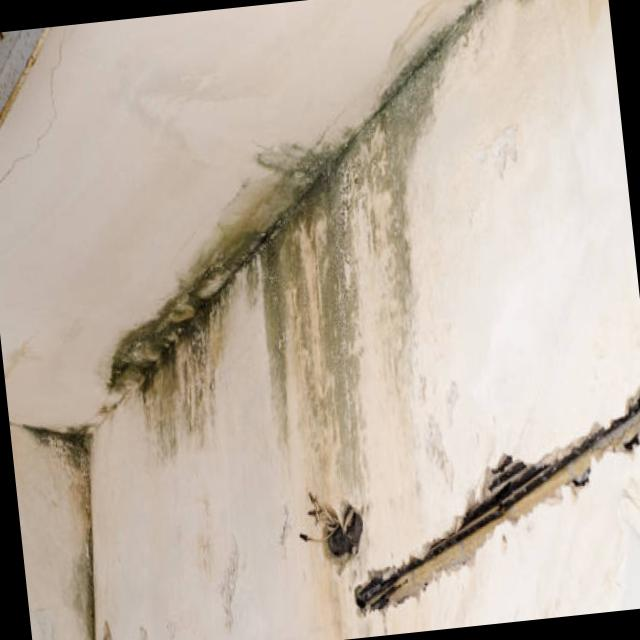crack: (336, 372, 640, 613)
